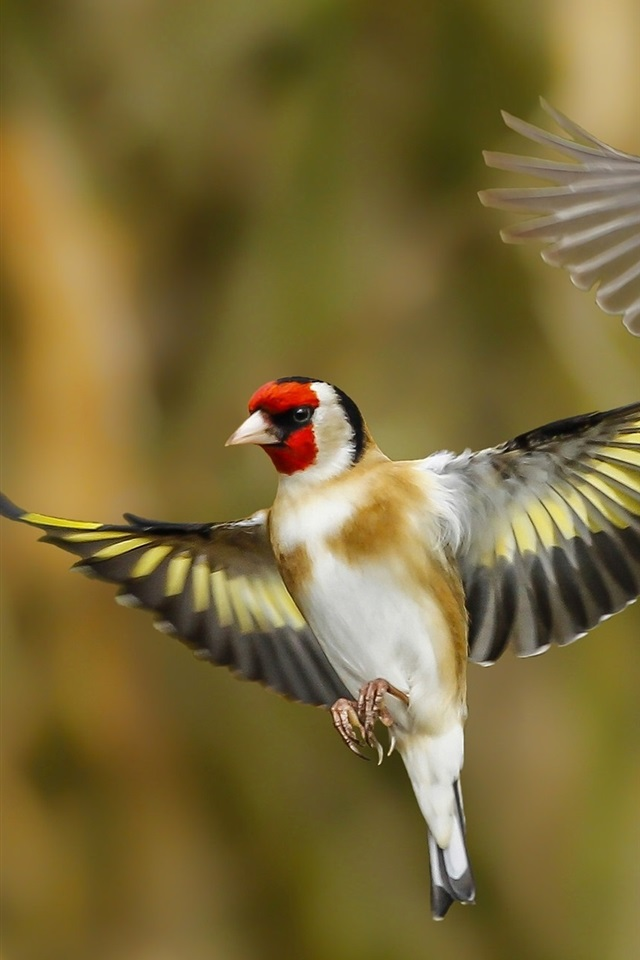bird: (1, 370, 639, 905)
